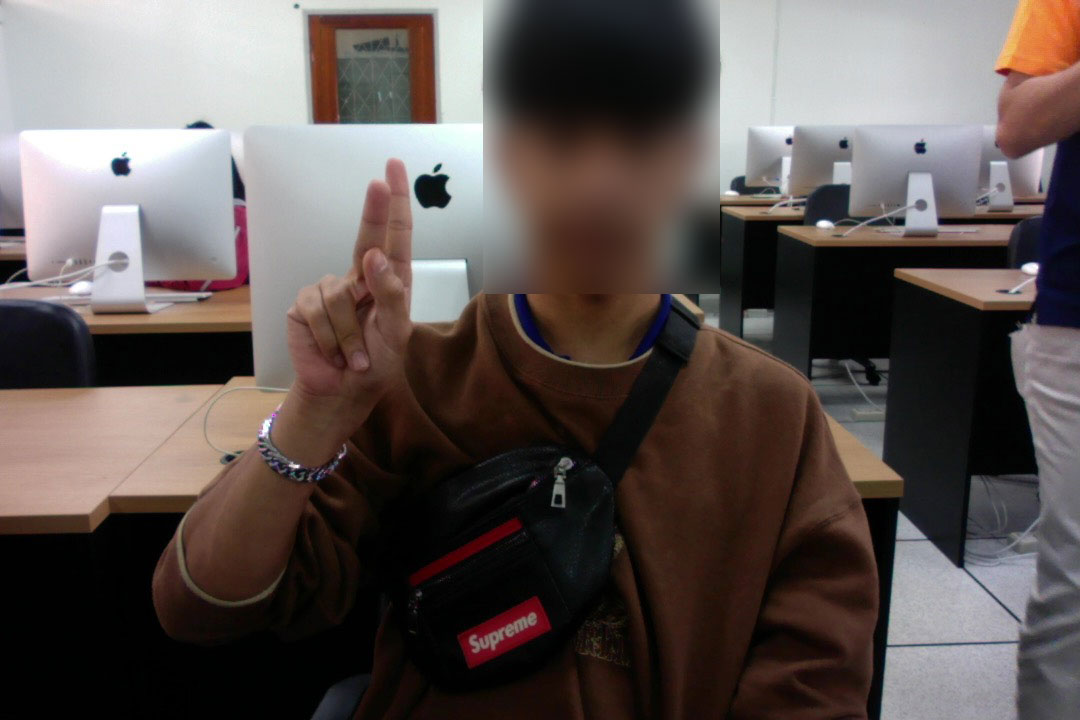ko: (263, 136, 428, 443)
